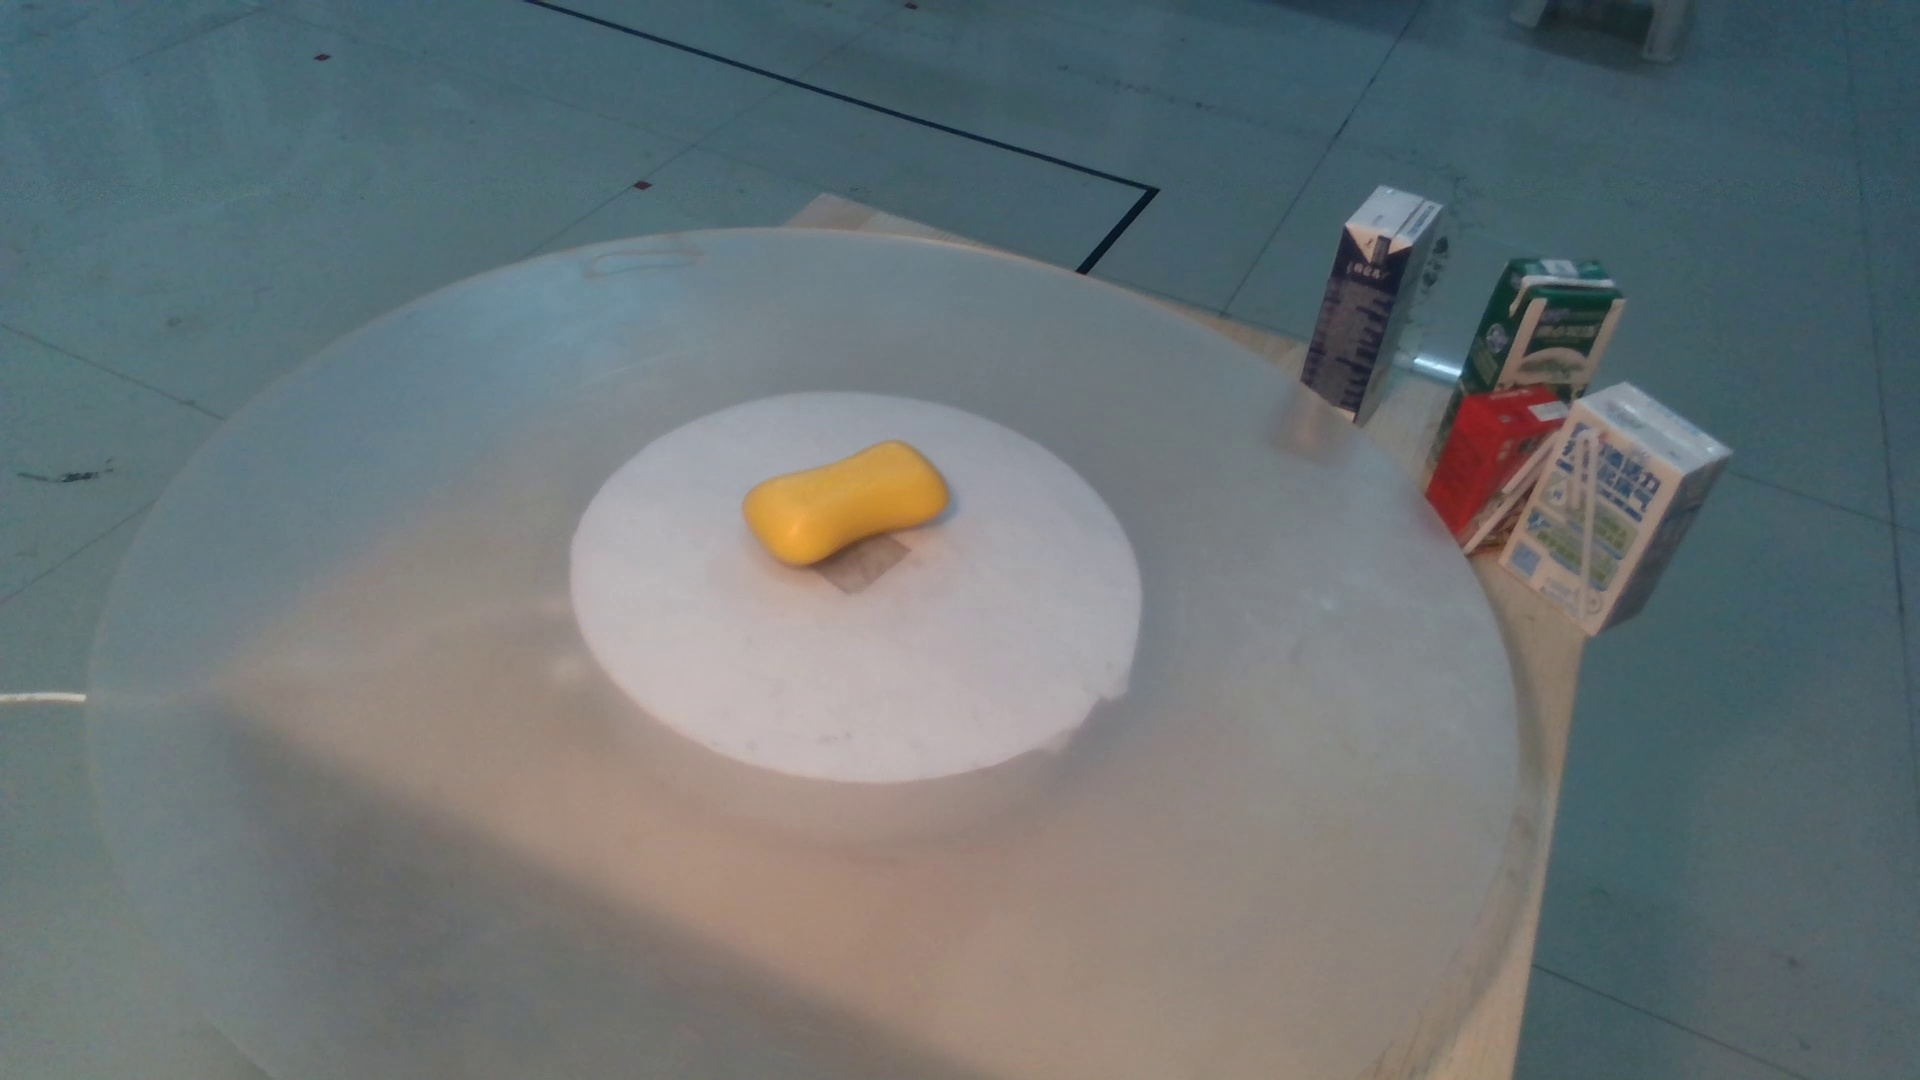CA003_1: (729, 425, 986, 585)
